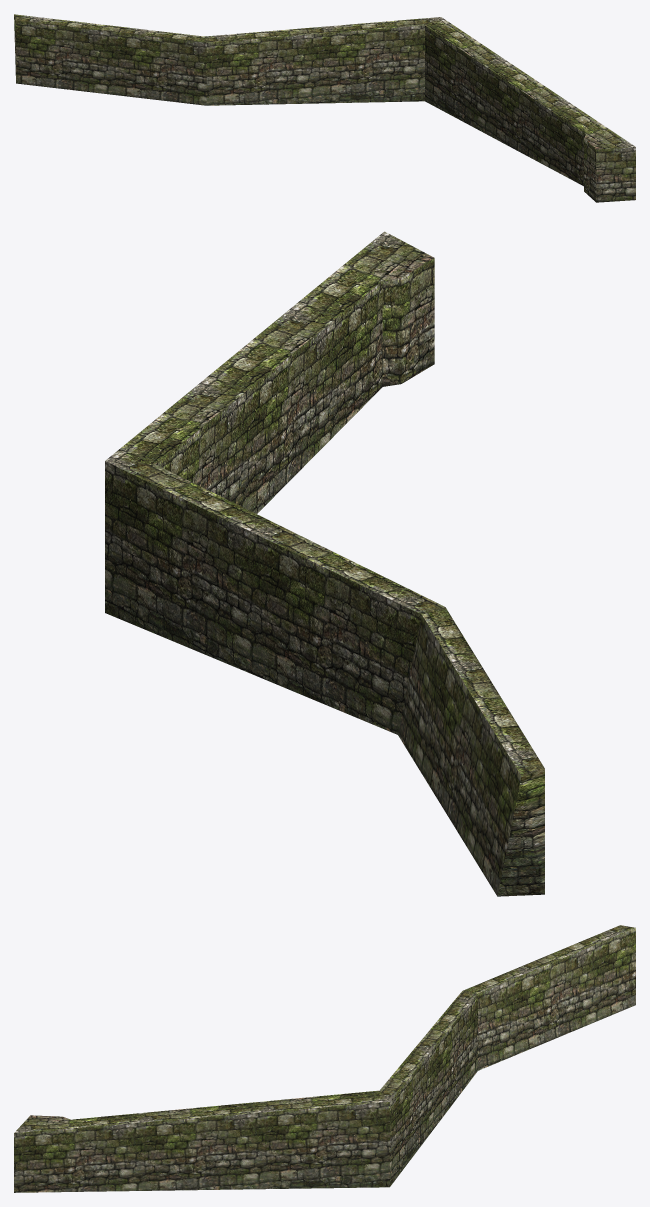
The picture shows the model from 3 angles, top to bottom: view 1: azimuth 30°, elevation 25°; view 2: azimuth 150°, elevation 25°; view 3: azimuth 270°, elevation 25°; orthographic projection. The views are drawn at different scales.
Parts seen in each view (by area): view 1: TN2_W04-col; view 2: TN2_W04-col; view 3: TN2_W04-col.
Boxes of the visible parts, x1=… form: TN2_W04-col: x1=14, y1=14, x2=635, y2=202; TN2_W04-col: x1=105, y1=231, x2=544, y2=896; TN2_W04-col: x1=14, y1=925, x2=635, y2=1192.
Size of the model in its own units: 16.76 by 3.48 by 22.96.
Materials: 2 (2 with a texture image).
